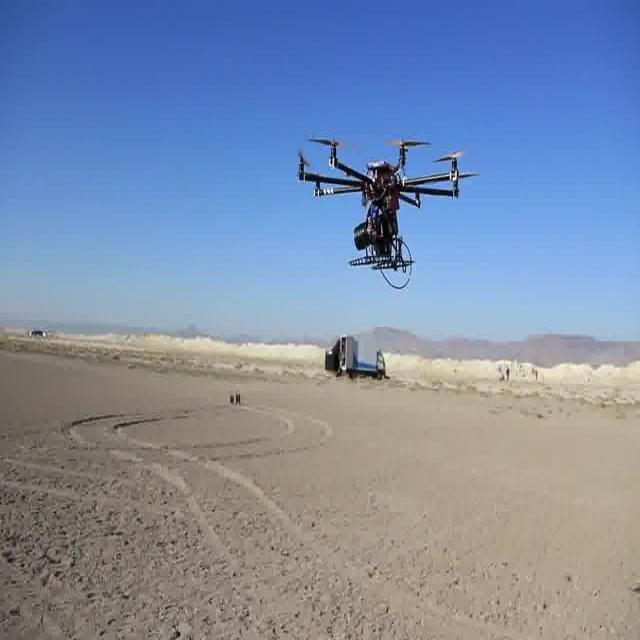Drone_FW: (296, 133, 480, 290)
